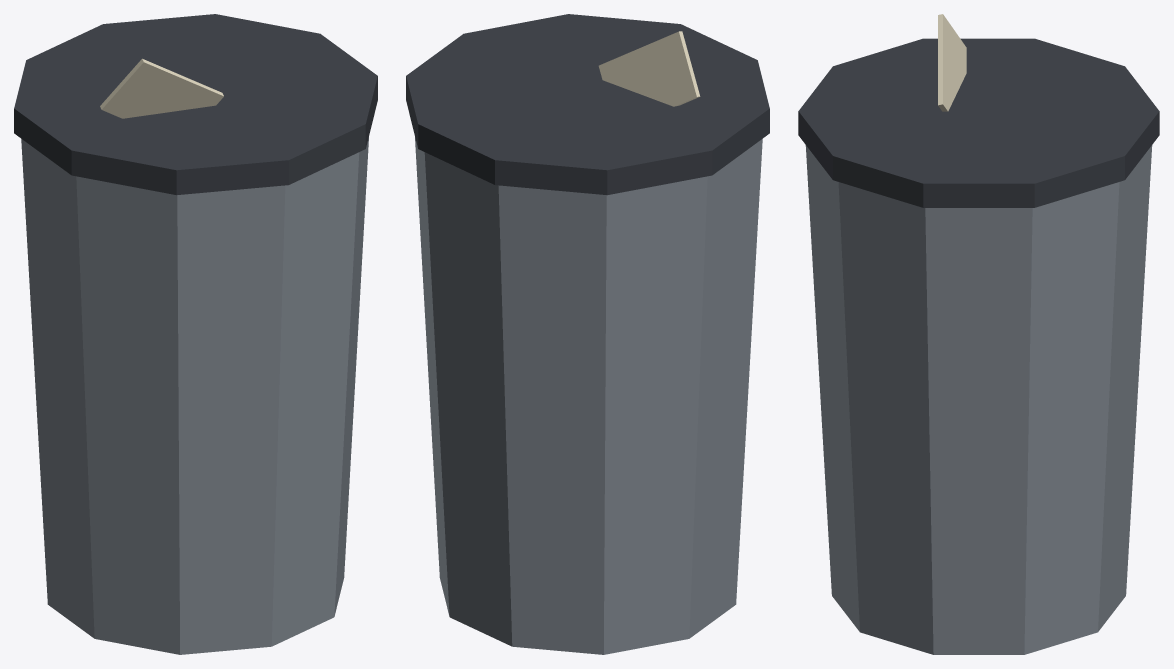
The model's file is trashBin.fbx.
3 renders of one model, left to right at view 1: azimuth 30°, elevation 25°; view 2: azimuth 150°, elevation 25°; view 3: azimuth 270°, elevation 25°, orthographic. The views are drawn at different scales.
Visible parts, largest first — view 1: trashBin; view 2: trashBin; view 3: trashBin.
Boxes of the visible parts, x1,y1,x2,y2 form: trashBin: (14, 14, 377, 654); trashBin: (406, 14, 769, 654); trashBin: (798, 14, 1159, 654).
Bounding box in the file's own units: 1.03 × 1.81 × 1.08.
